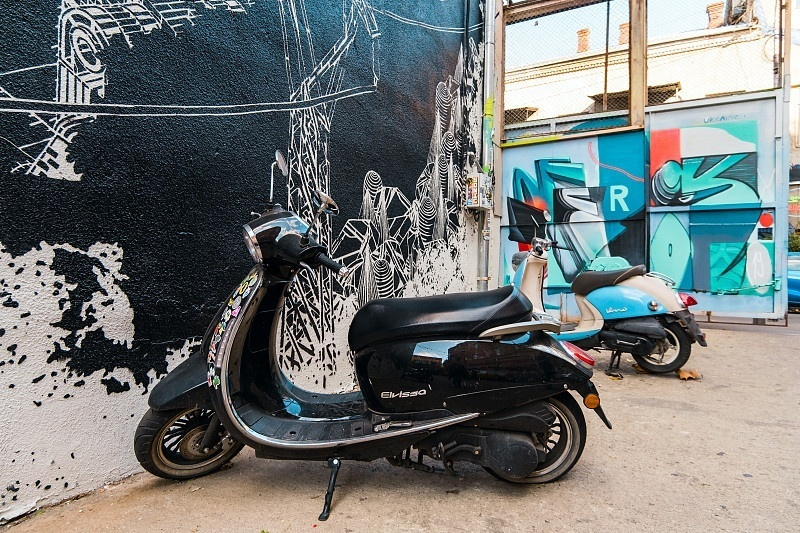non-vehicle: (130, 195, 600, 498), (495, 220, 716, 369)
